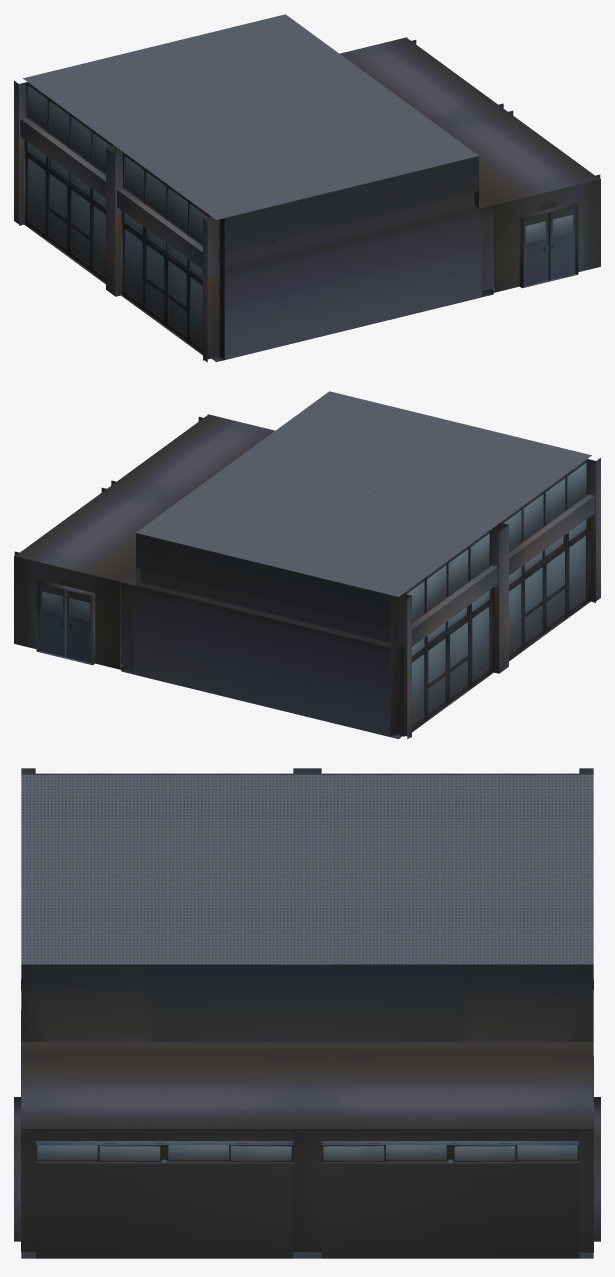
The model's file is JpsEntrance_night.FBX.
3 renders of one model, top to bottom at view 1: azimuth 30°, elevation 25°; view 2: azimuth 150°, elevation 25°; view 3: azimuth 270°, elevation 25°, orthographic. The views are drawn at different scales.
Visible parts, largest first — view 1: Ent_ceiling_enig, Ent_wallB_nig, Ent_wallL_nig, Ent_Wceiling_nig, Ent_Wwall_exitB_nig, Ent_WdoorL_exitB_nig, Ent_WdoorR_exitB_nig, Ent_wallL_doorRL_nig, Ent_wallL_doorRR_nig, Ent_wallL_doorLL_nig, Ent_wallL_doorLR_nig, Ent_WwallL_nig; view 2: Ent_ceiling_enig, Ent_wallF_nig, Ent_wallL_nig, Ent_Wceiling_nig, Ent_Wwall_exitA_nig, Ent_WdoorL_exitA_nig, Ent_WdoorR_exitA_nig, Ent_wallL_doorRL_nig, Ent_wallL_doorLL_nig, Ent_wallL_doorRR_nig, Ent_wallL_doorLR_nig, Ent_WwallL_nig; view 3: Ent_ceiling_enig, Ent_WwallR_nig, Ent_Wceiling_nig, Ent_wallR_nig, Ent_wallL_nig, Ent_Wwall_exitB_nig, Ent_Wwall_exitA_nig.
Part boxes in pixels (bbox=[...]): Ent_ceiling_enig: bbox=[23, 14, 478, 220]; Ent_wallB_nig: bbox=[224, 156, 481, 359]; Ent_wallL_nig: bbox=[14, 80, 224, 362]; Ent_Wceiling_nig: bbox=[340, 37, 599, 208]; Ent_Wwall_exitB_nig: bbox=[494, 179, 600, 292]; Ent_WdoorL_exitB_nig: bbox=[522, 213, 550, 287]; Ent_WdoorR_exitB_nig: bbox=[550, 206, 577, 279]; Ent_wallL_doorRL_nig: bbox=[69, 186, 90, 270]; Ent_wallL_doorRR_nig: bbox=[48, 171, 69, 255]; Ent_wallL_doorLL_nig: bbox=[166, 257, 187, 341]; Ent_wallL_doorLR_nig: bbox=[145, 242, 165, 325]; Ent_WwallL_nig: bbox=[482, 205, 494, 290]; Ent_ceiling_enig: bbox=[136, 391, 591, 597]; Ent_wallF_nig: bbox=[133, 533, 390, 736]; Ent_wallL_nig: bbox=[390, 457, 600, 739]; Ent_Wceiling_nig: bbox=[15, 414, 274, 585]; Ent_Wwall_exitA_nig: bbox=[14, 556, 120, 669]; Ent_WdoorL_exitA_nig: bbox=[64, 590, 92, 664]; Ent_WdoorR_exitA_nig: bbox=[37, 583, 64, 656]; Ent_wallL_doorRL_nig: bbox=[448, 619, 469, 703]; Ent_wallL_doorLL_nig: bbox=[545, 548, 566, 632]; Ent_wallL_doorRR_nig: bbox=[427, 635, 447, 718]; Ent_wallL_doorLR_nig: bbox=[524, 564, 544, 647]; Ent_WwallL_nig: bbox=[120, 582, 132, 667]; Ent_ceiling_enig: bbox=[21, 774, 593, 964]; Ent_WwallR_nig: bbox=[21, 1123, 593, 1258]; Ent_Wceiling_nig: bbox=[21, 1042, 593, 1129]; Ent_wallR_nig: bbox=[21, 964, 593, 1041]; Ent_wallL_nig: bbox=[21, 768, 593, 774]; Ent_Wwall_exitB_nig: bbox=[14, 1097, 21, 1241]; Ent_Wwall_exitA_nig: bbox=[593, 1097, 600, 1241].
Size of the model in its own units: 1421 by 498 by 1230.
